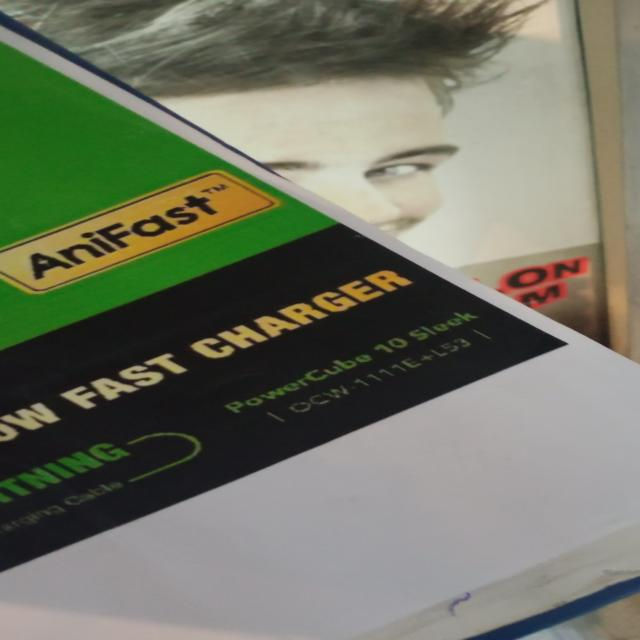PowerCube 10 Sleek OCW-1111ExL53: (192, 297, 508, 434)
